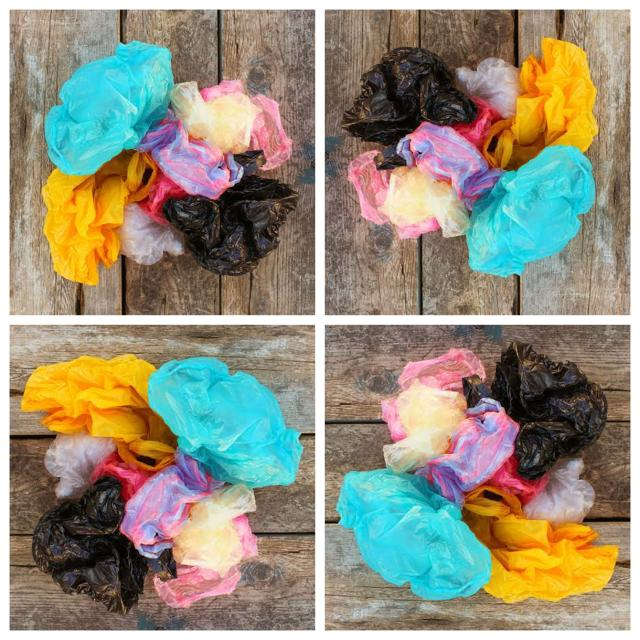Single-layer Plastic: (148, 358, 302, 488), (338, 469, 491, 599), (462, 485, 619, 602), (21, 354, 176, 471), (45, 41, 174, 174), (466, 145, 595, 276), (341, 46, 478, 169), (490, 342, 608, 480), (32, 476, 148, 613), (42, 150, 158, 285), (482, 38, 599, 170), (162, 175, 298, 275), (120, 450, 224, 558), (416, 399, 519, 506), (136, 110, 244, 199), (396, 122, 502, 209), (172, 484, 258, 574), (384, 380, 466, 472), (170, 81, 261, 154), (379, 166, 470, 239), (44, 431, 116, 499), (522, 458, 595, 525), (119, 202, 184, 264), (154, 562, 241, 608), (456, 58, 521, 119), (398, 348, 486, 392), (348, 150, 391, 225)
